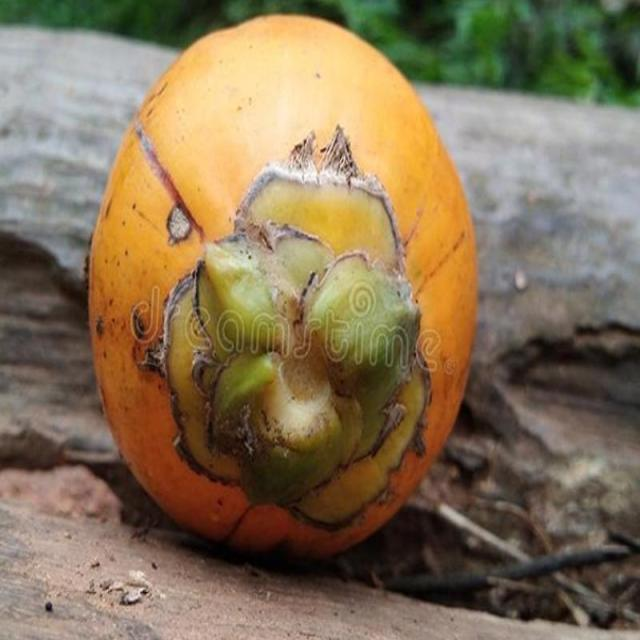good: (87, 14, 479, 565)
